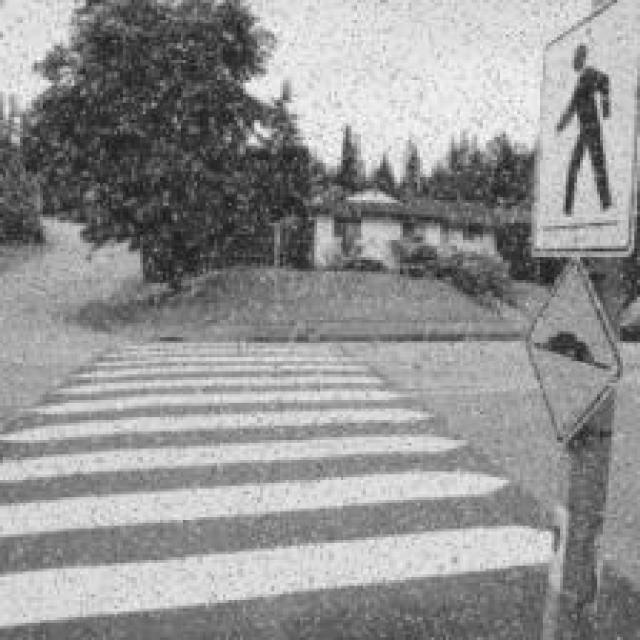walk-crossing: (0, 310, 569, 627)
